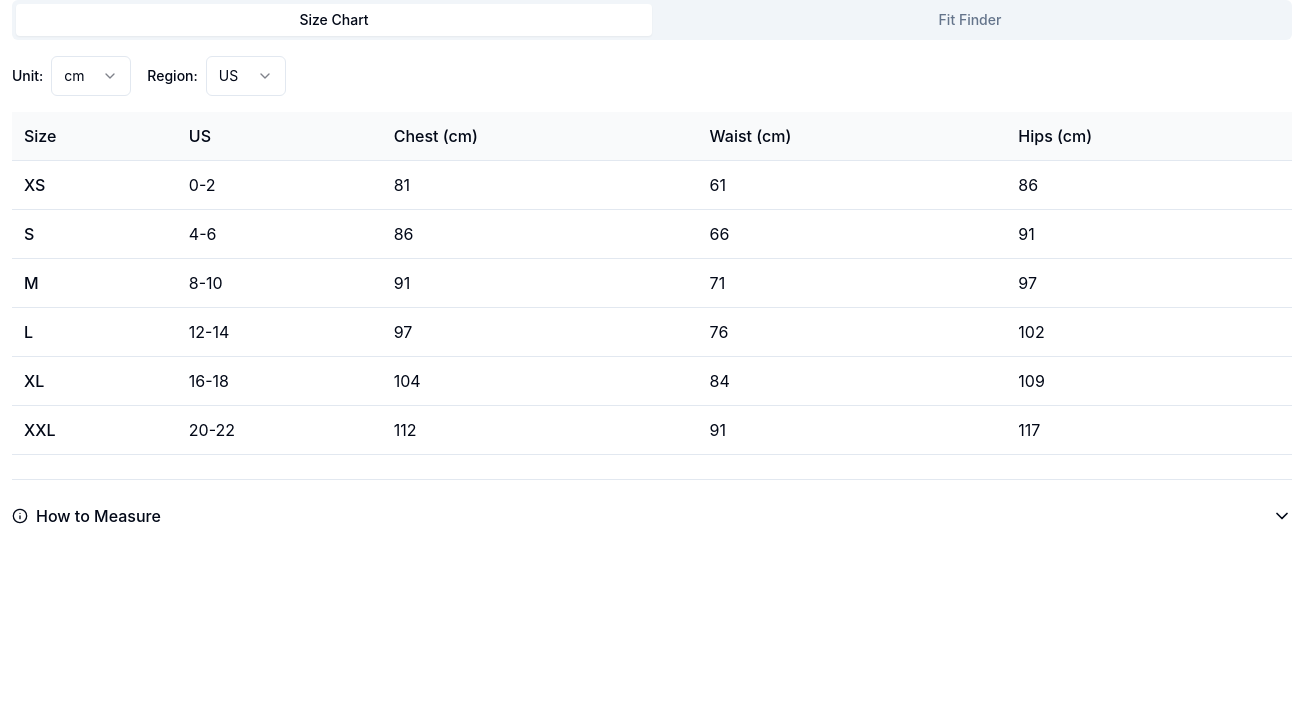
SizeGuideContent › should switch to fit finder tab
Click the tab with test id "tab-fit-finder" at (970, 20), box [652,4,1288,36]
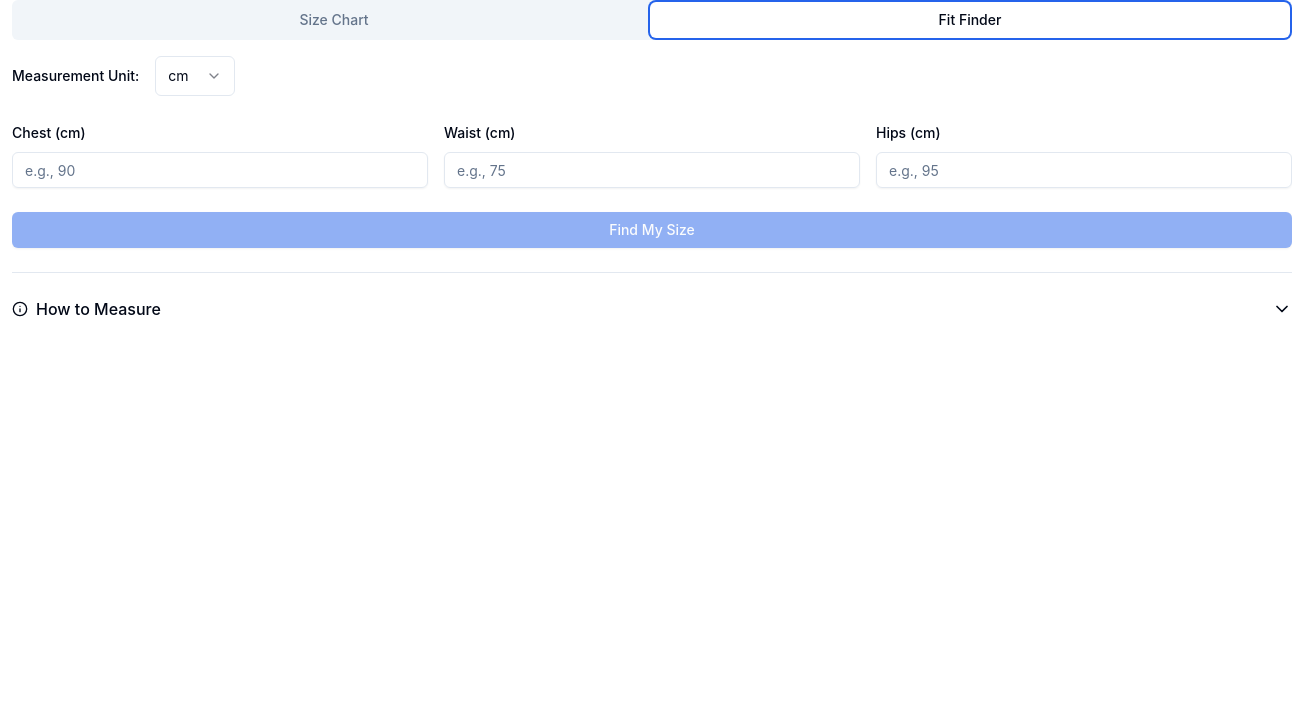
Check: the element with test id "fit-finder" is shown, box [12,56,1292,248]
